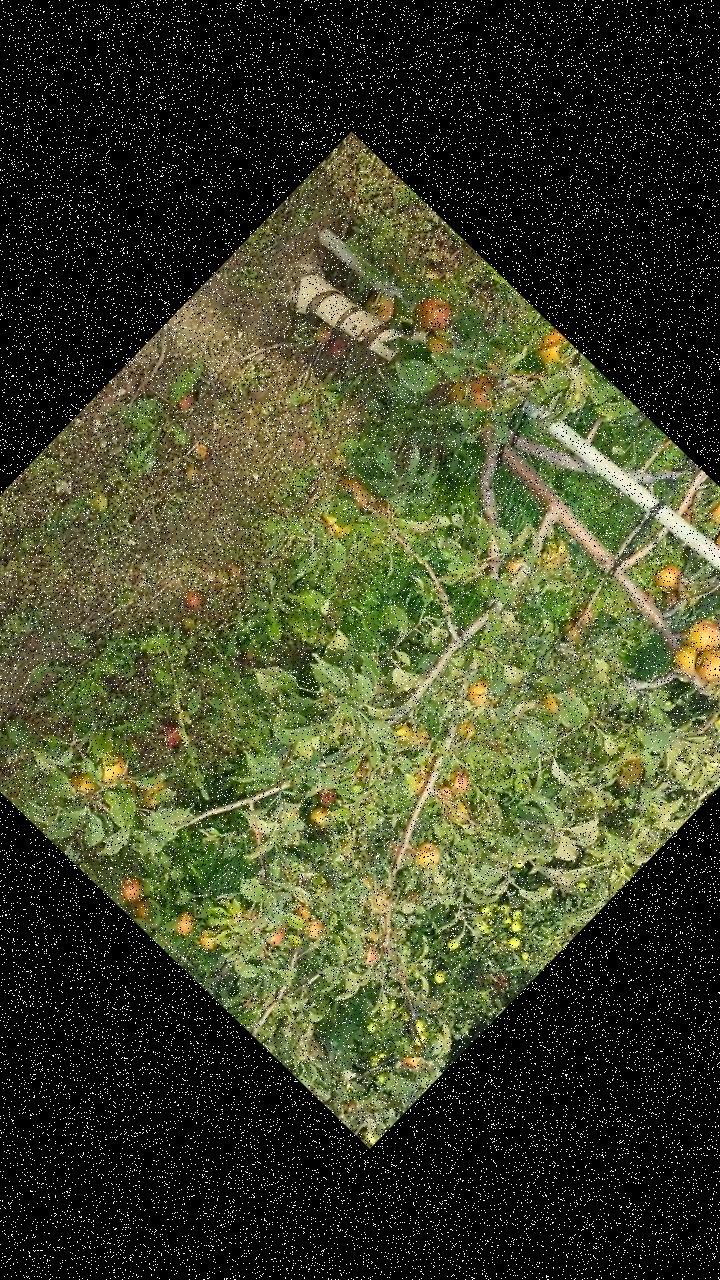Apple: (410, 288, 461, 340), (347, 874, 390, 917), (682, 612, 719, 660), (333, 471, 375, 513), (668, 640, 710, 681), (131, 774, 171, 814), (532, 328, 572, 368), (442, 380, 482, 420), (648, 560, 688, 599), (92, 749, 132, 788), (689, 641, 719, 692), (419, 326, 458, 364), (316, 504, 354, 542), (463, 374, 500, 411), (412, 836, 448, 873), (397, 1040, 433, 1076), (552, 616, 588, 652), (614, 758, 650, 793), (461, 673, 496, 708), (351, 938, 386, 972), (116, 873, 150, 907), (305, 801, 338, 834), (168, 908, 200, 941), (445, 766, 477, 798), (67, 768, 99, 800), (405, 724, 436, 755), (658, 582, 688, 612), (567, 600, 597, 630), (406, 766, 436, 796), (130, 896, 160, 926), (302, 916, 330, 944), (195, 926, 223, 954), (502, 550, 530, 578), (538, 691, 565, 718), (391, 718, 416, 744), (456, 719, 479, 742), (290, 902, 312, 924), (707, 496, 719, 533), (267, 928, 288, 949), (316, 787, 337, 808), (710, 525, 719, 566)
